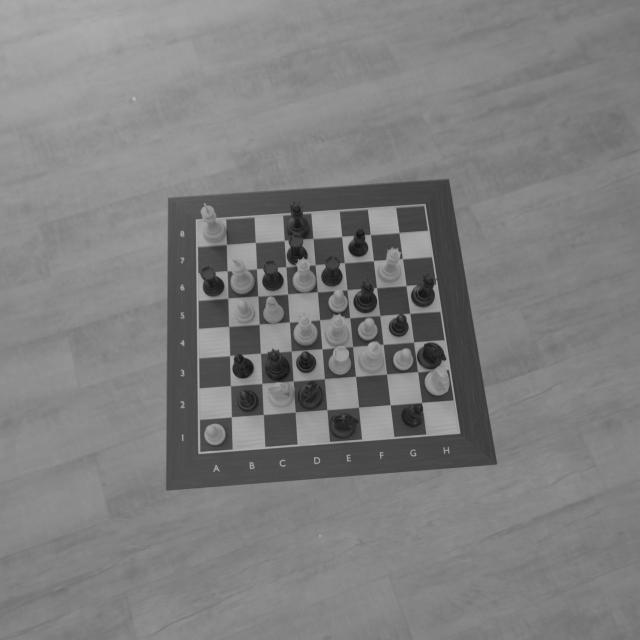chessboard: (193, 206, 463, 452)
